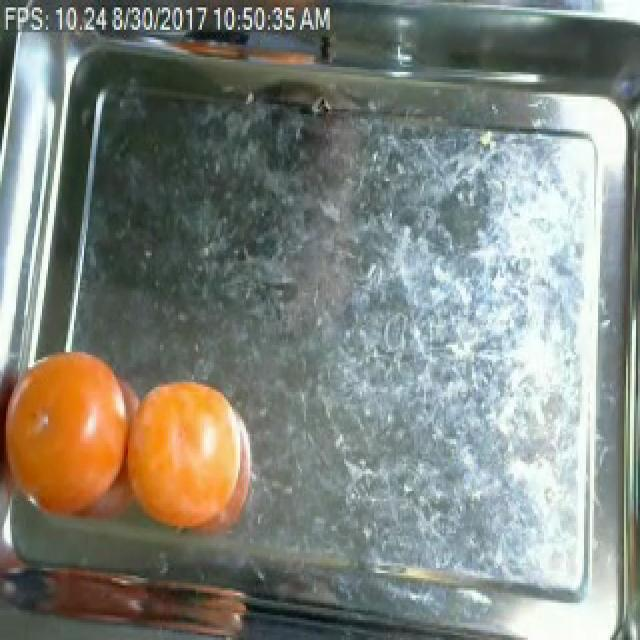Fruit: (104, 362, 266, 556)
